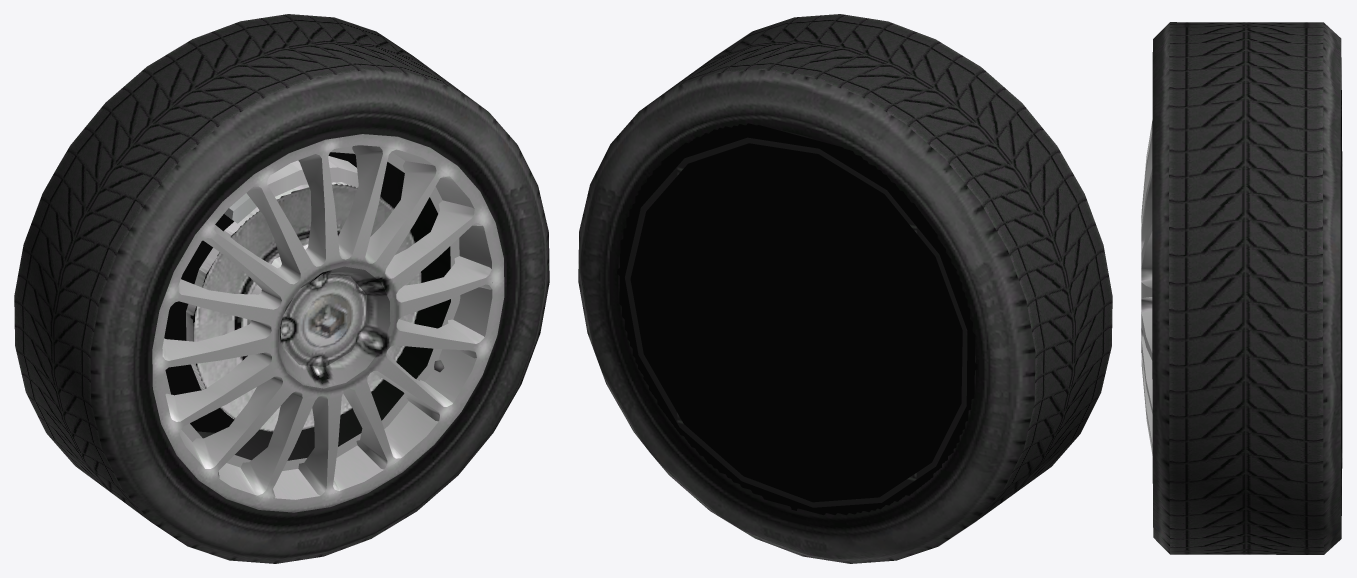
The model's file is ClioV6_wheel.obj.
3 views of the same model, side by side, from view 1: azimuth 30°, elevation 25°; view 2: azimuth 150°, elevation 25°; view 3: azimuth 270°, elevation 25° (orthographic).
Parts seen in each view (by area): view 1: DrawCall_326.000; view 2: DrawCall_326.000; view 3: DrawCall_326.000.
Part boxes in pixels (x1,y1,x2,y2): DrawCall_326.000: (14,14,549,563); DrawCall_326.000: (578,14,1112,563); DrawCall_326.000: (1141,22,1342,554).
Bounding box in the file's own units: 1.7 × 1.7 × 0.6431.
